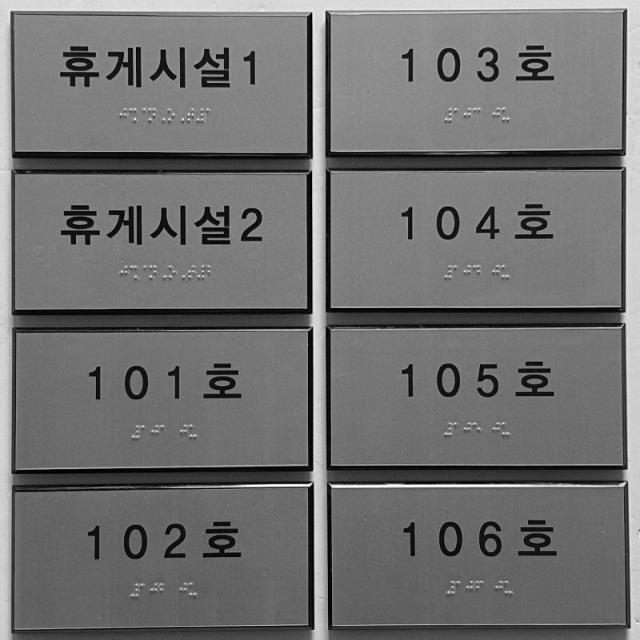braiile: (442, 420, 453, 438), (490, 420, 501, 437), (442, 106, 452, 124), (462, 106, 472, 124), (453, 420, 463, 438), (504, 578, 514, 596), (491, 106, 502, 122), (445, 580, 456, 596), (500, 263, 510, 280), (129, 583, 140, 598), (442, 265, 453, 280), (474, 580, 485, 595), (157, 107, 167, 123), (176, 107, 186, 123), (148, 264, 158, 280), (158, 264, 168, 280), (177, 264, 187, 280), (130, 424, 140, 440), (453, 107, 463, 123), (472, 106, 482, 122), (501, 106, 511, 122), (453, 264, 463, 280), (462, 264, 472, 280), (490, 264, 500, 280), (462, 421, 472, 437), (472, 421, 482, 437), (501, 421, 511, 437), (494, 579, 504, 595), (118, 107, 128, 122), (196, 265, 206, 280), (178, 582, 188, 597), (188, 582, 198, 597), (167, 107, 176, 123), (186, 107, 195, 123), (196, 106, 205, 122), (206, 107, 215, 123), (139, 264, 148, 280), (141, 424, 150, 440), (472, 264, 481, 280), (456, 579, 465, 595), (150, 425, 160, 439), (159, 583, 169, 597), (128, 107, 137, 122), (129, 265, 138, 280), (187, 264, 196, 279), (179, 424, 188, 439), (189, 424, 198, 439), (465, 580, 474, 595), (120, 264, 128, 280), (147, 108, 156, 122), (168, 265, 177, 279), (206, 265, 215, 279), (160, 424, 169, 438), (140, 583, 149, 597), (149, 583, 158, 597), (138, 108, 146, 122)
